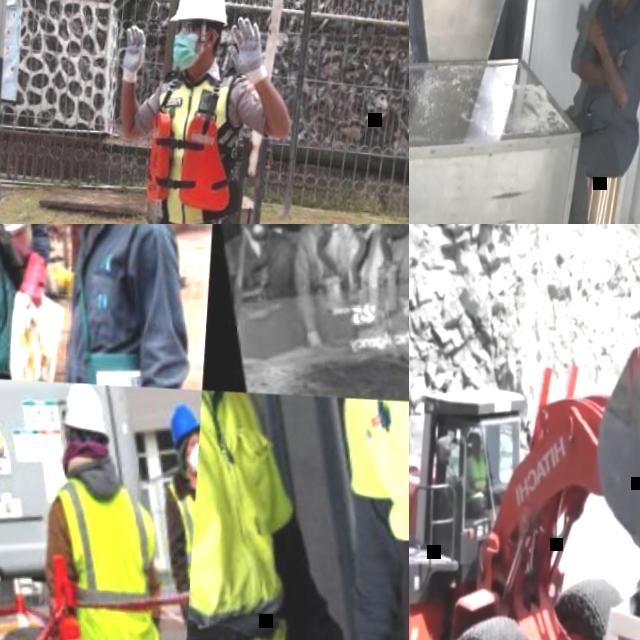Hardhat: (60, 379, 113, 442), (166, 0, 229, 25), (167, 404, 198, 448), (470, 432, 481, 445)
Mask: (173, 31, 217, 68), (243, 224, 269, 240), (184, 446, 196, 475), (345, 224, 370, 230), (374, 224, 391, 230)
NO-Mask: (605, 0, 622, 10), (471, 448, 478, 458)
NO-Safety Vest: (63, 224, 174, 385), (219, 228, 298, 357), (575, 0, 640, 126), (297, 224, 360, 325), (345, 224, 392, 355), (384, 224, 409, 361)
Person: (181, 387, 371, 640), (90, 0, 304, 224), (33, 379, 182, 640), (38, 224, 210, 389), (320, 395, 409, 640), (547, 0, 640, 224), (216, 224, 307, 367), (152, 402, 202, 625), (0, 224, 65, 384), (460, 432, 492, 515)
Safety Cone: (52, 612, 101, 640)
Safety Vest: (180, 389, 304, 640), (36, 475, 173, 640), (142, 71, 241, 224), (334, 394, 409, 546), (465, 455, 487, 494)
vehicle: (409, 278, 640, 640)
